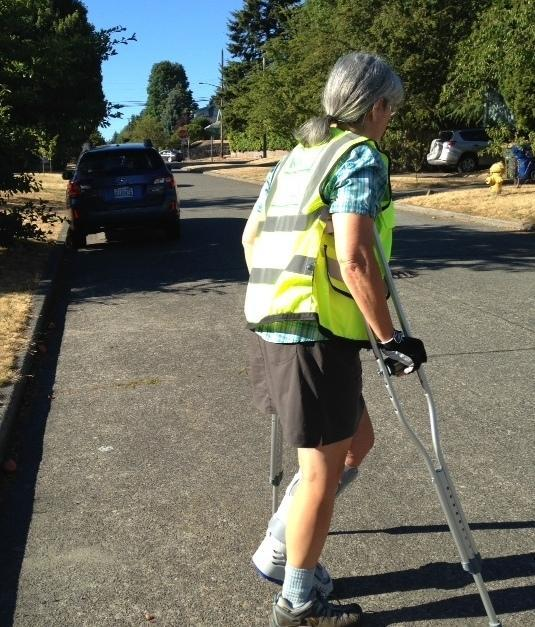crutches: (224, 39, 513, 627)
